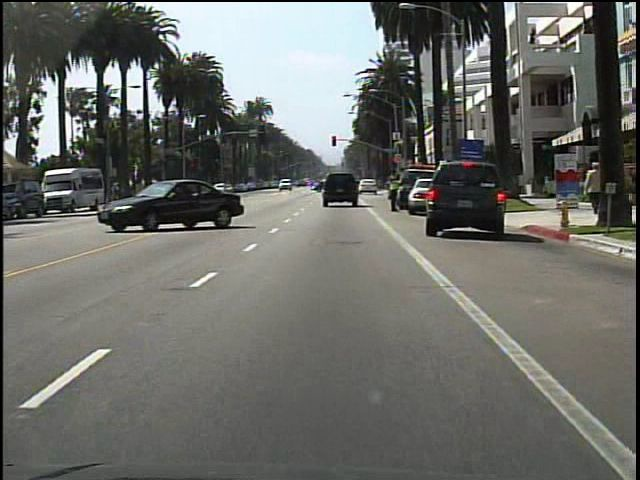person: (581, 161, 602, 219), (385, 171, 404, 219)
